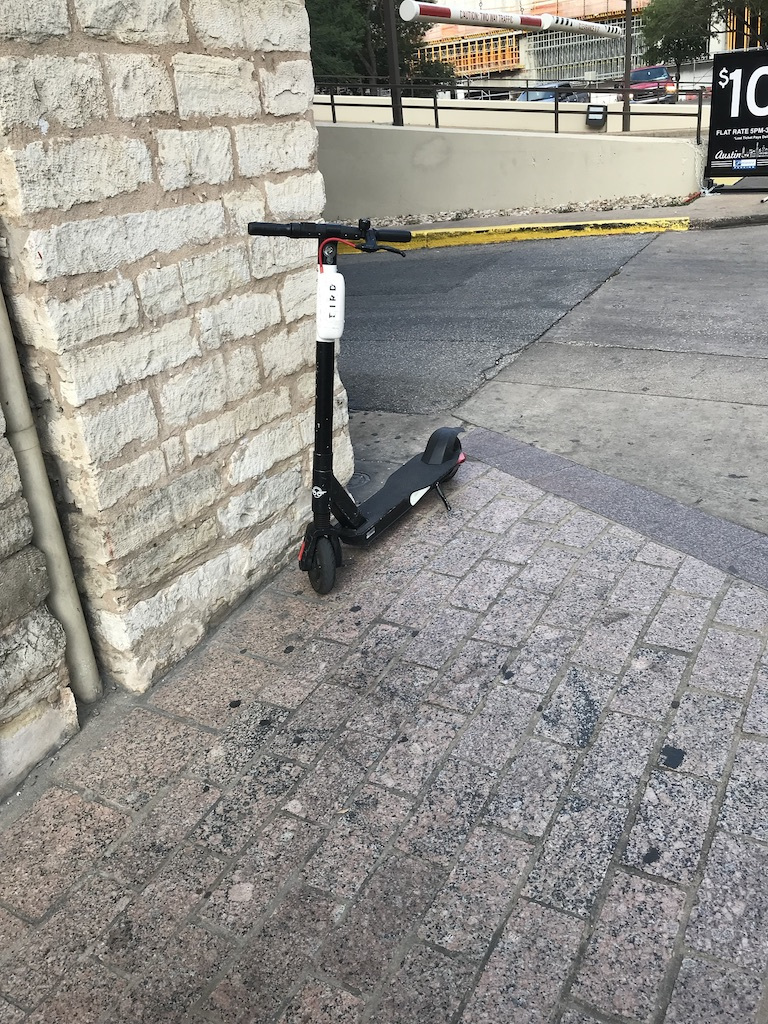scooter: (249, 218, 467, 597)
